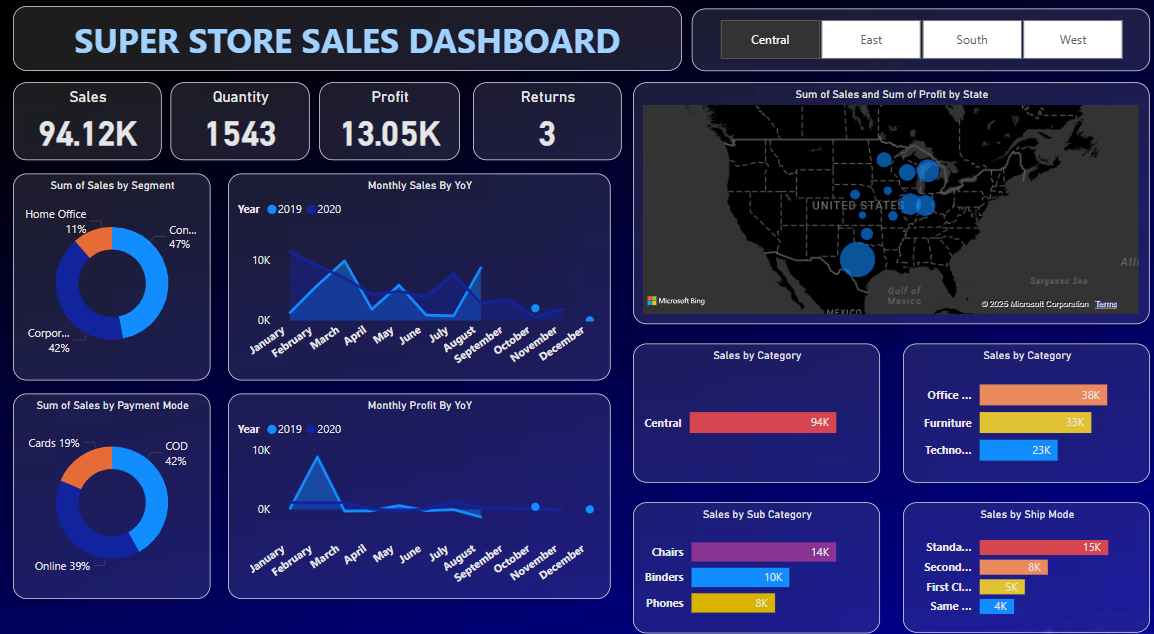

The dashboard page shown, as its layout file describes it:
{"tool":"powerbi","page":{"name":"Page 1","canvas":[1280,720],"ordinal":0},"visuals":[{"type":"clusteredBarChart","title":"Sales by Category","fields":{"Category":["SuperStore_Sales_Dataset.Category"],"Y":["Sum(SuperStore_Sales_Dataset.Sales)"]},"box":[992.9,381.4,271.4,152.9],"z":0},{"type":"clusteredBarChart","title":"Sales by Sub Category","fields":{"Category":["SuperStore_Sales_Dataset.Sub-Category"],"Y":["Sum(SuperStore_Sales_Dataset.Sales)"]},"box":[697.1,555.7,271.4,144.3],"z":1000},{"type":"clusteredBarChart","title":"Sales by Ship Mode","fields":{"Y":["Sum(SuperStore_Sales_Dataset.Sales)"],"Category":["SuperStore_Sales_Dataset.Ship Mode"]},"box":[992.9,555.7,271.4,142.9],"z":2000},{"type":"areaChart","title":"Monthly Sales By YoY","fields":{"Y":["Sum(SuperStore_Sales_Dataset.Sales)"],"Series":["SuperStore_Sales_Dataset.Order Date.Variation.Date Hierarchy.Year"],"Category":["SuperStore_Sales_Dataset.Order Date.Variation.Date Hierarchy.Month","SuperStore_Sales_Dataset.Order Date.Variation.Date Hierarchy.Day"]},"box":[252.9,194.3,420,227.1],"z":3000},{"type":"areaChart","title":"Monthly Profit By YoY","fields":{"Series":["SuperStore_Sales_Dataset.Order Date.Variation.Date Hierarchy.Year"],"Category":["SuperStore_Sales_Dataset.Order Date.Variation.Date Hierarchy.Month","SuperStore_Sales_Dataset.Order Date.Variation.Date Hierarchy.Day"],"Y":["Sum(SuperStore_Sales_Dataset.Profit)"]},"box":[252.9,435.7,420,225.7],"z":4000},{"type":"map","fields":{"Category":["SuperStore_Sales_Dataset.State"],"Size":["Sum(SuperStore_Sales_Dataset.Sales)"]},"box":[697.1,94.3,567.1,265.7],"z":5000},{"type":"donutChart","fields":{"Category":["SuperStore_Sales_Dataset.Segment"],"Y":["Sum(SuperStore_Sales_Dataset.Sales)"]},"box":[17.1,194.3,217.1,227.1],"z":6000},{"type":"donutChart","fields":{"Y":["Sum(SuperStore_Sales_Dataset.Sales)"],"Category":["SuperStore_Sales_Dataset.Payment Mode"]},"box":[17.1,435.7,217.1,225.7],"z":7000},{"type":"slicer","fields":{"Values":["SuperStore_Sales_Dataset.Region"]},"box":[761.4,14.3,502.9,68.6],"z":8000},{"type":"textbox","box":[17.1,11.4,734.3,71.4],"z":9000},{"type":"card","title":"Sales","fields":{"Values":["Sum(SuperStore_Sales_Dataset.Sales)"]},"box":[17.1,94.3,162.9,85.7],"z":9001},{"type":"card","title":"Quantity","fields":{"Values":["Sum(SuperStore_Sales_Dataset.Quantity)"]},"box":[190,94.3,152.9,85.7],"z":9002},{"type":"card","title":"Profit","fields":{"Values":["Sum(SuperStore_Sales_Dataset.Profit)"]},"box":[352.9,94.3,154.3,85.7],"z":9003},{"type":"clusteredBarChart","title":"Sales by Category","fields":{"Y":["Sum(SuperStore_Sales_Dataset.Sales)"],"Category":["SuperStore_Sales_Dataset.Region"]},"box":[697.1,381.4,271.4,152.9],"z":9004},{"type":"card","title":"Returns","fields":{"Values":["Sum(SuperStore_Sales_Dataset.Returns)"]},"box":[521.4,94.3,162.9,85.7],"z":9005}]}

Visuals, with their boxes in screenshot pixels (x1, y1, x2, y2), scaled from the page's 1280x720 canvas onto the 1154x634 screenshot:
"Sales by Category" clusteredBarChart: BBox(895, 336, 1140, 470)
"Sales by Sub Category" clusteredBarChart: BBox(628, 489, 873, 616)
"Sales by Ship Mode" clusteredBarChart: BBox(895, 489, 1140, 615)
"Monthly Sales By YoY" areaChart: BBox(228, 171, 607, 371)
"Monthly Profit By YoY" areaChart: BBox(228, 384, 607, 582)
map - SuperStore_Sales_Dataset.State x Sum(SuperStore_Sales_Dataset.Sales): BBox(628, 83, 1140, 317)
donutChart - SuperStore_Sales_Dataset.Segment x Sum(SuperStore_Sales_Dataset.Sales): BBox(15, 171, 211, 371)
donutChart - Sum(SuperStore_Sales_Dataset.Sales) x SuperStore_Sales_Dataset.Payment Mode: BBox(15, 384, 211, 582)
slicer - SuperStore_Sales_Dataset.Region: BBox(686, 13, 1140, 73)
textbox: BBox(15, 10, 677, 73)
"Sales" card: BBox(15, 83, 162, 158)
"Quantity" card: BBox(171, 83, 309, 158)
"Profit" card: BBox(318, 83, 457, 158)
"Sales by Category" clusteredBarChart: BBox(628, 336, 873, 470)
"Returns" card: BBox(470, 83, 617, 158)
